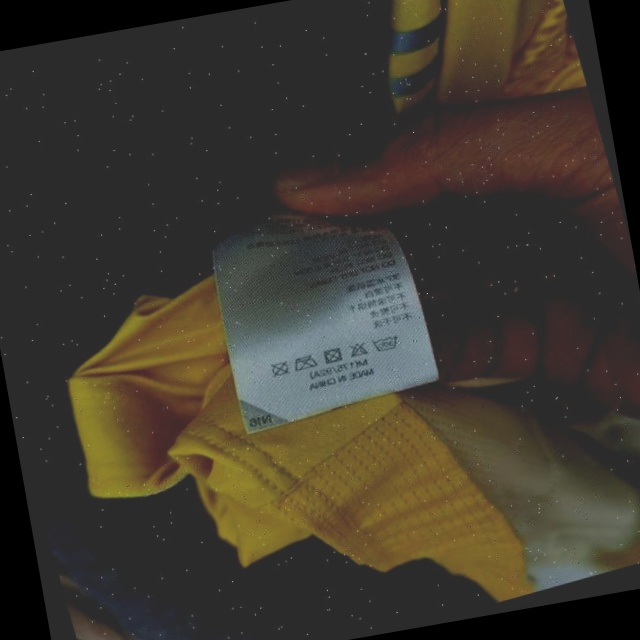30C: (369, 330, 402, 357)
DN_bleach: (344, 339, 369, 360)
DN_dry_clean: (266, 358, 292, 381)
DN_iron: (290, 350, 321, 375)
DN_tumble_dry: (320, 345, 345, 368)
